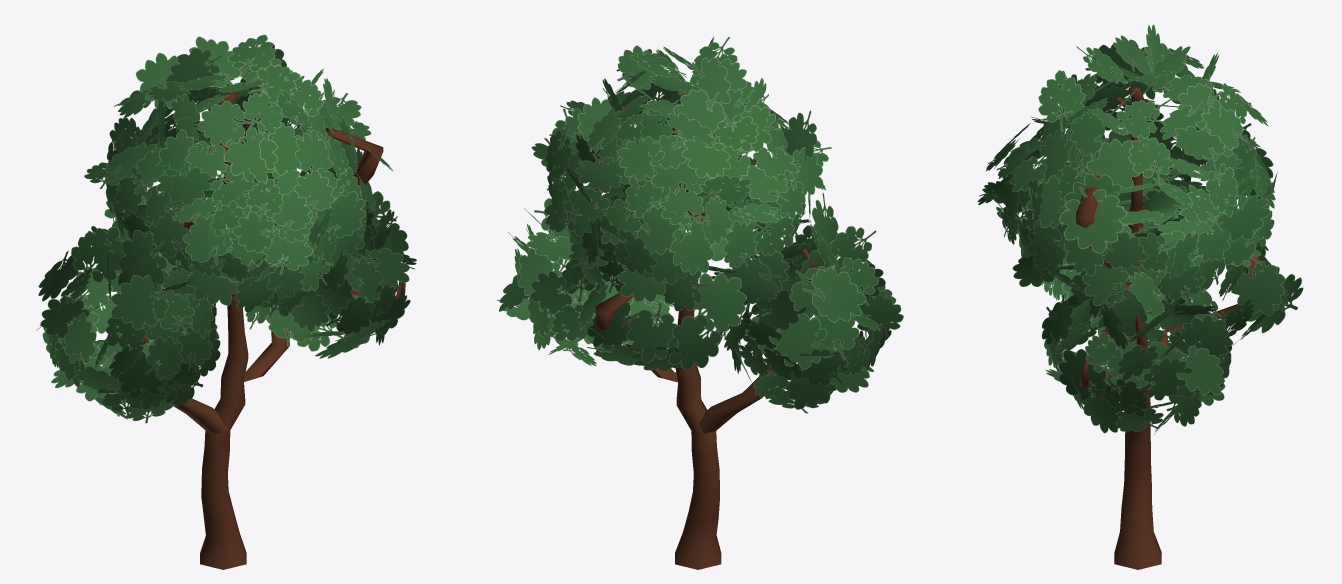
Rendered from tree_a.glb.
3 views of the same model, side by side, from view 1: azimuth 30°, elevation 25°; view 2: azimuth 150°, elevation 25°; view 3: azimuth 270°, elevation 25° (orthographic). The views are drawn at different scales.
Parts seen in each view (by area): view 1: tree_a; view 2: tree_a; view 3: tree_a.
Part boxes in pixels (x1,y1,x2,y2): tree_a: (36,34,416,569); tree_a: (497,36,903,569); tree_a: (977,24,1303,569).
Bounding box in the file's own units: 7.38 × 9.58 × 6.07.
2 materials, 1 textured.
